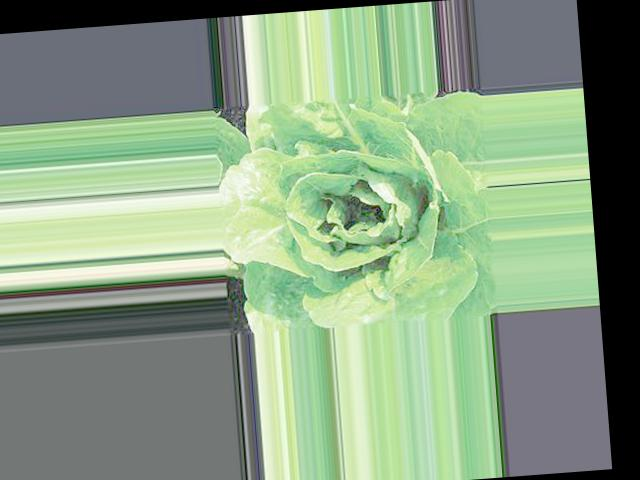lettuce: (268, 51, 440, 172)
